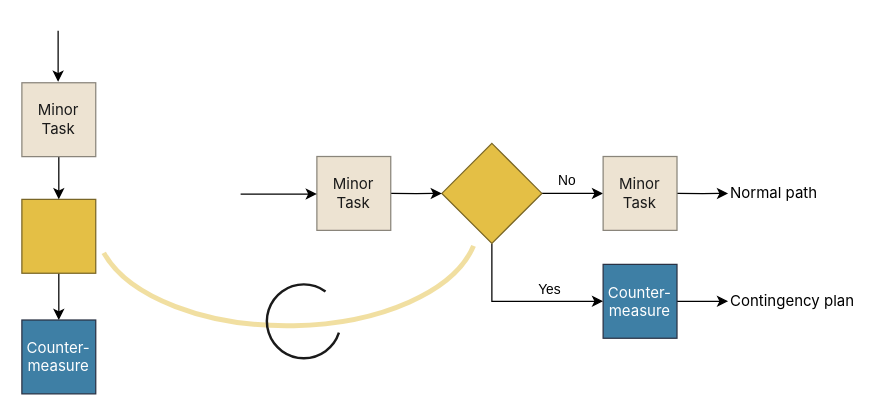
This 888x416 diagram has some shape labels left out. The box of each missing label's shape, as (x1, y1, x2, y2) in pixels:
Pivot: (265, 282, 341, 359)
Risk: (21, 198, 96, 273)
Risk?: (441, 142, 542, 243)
